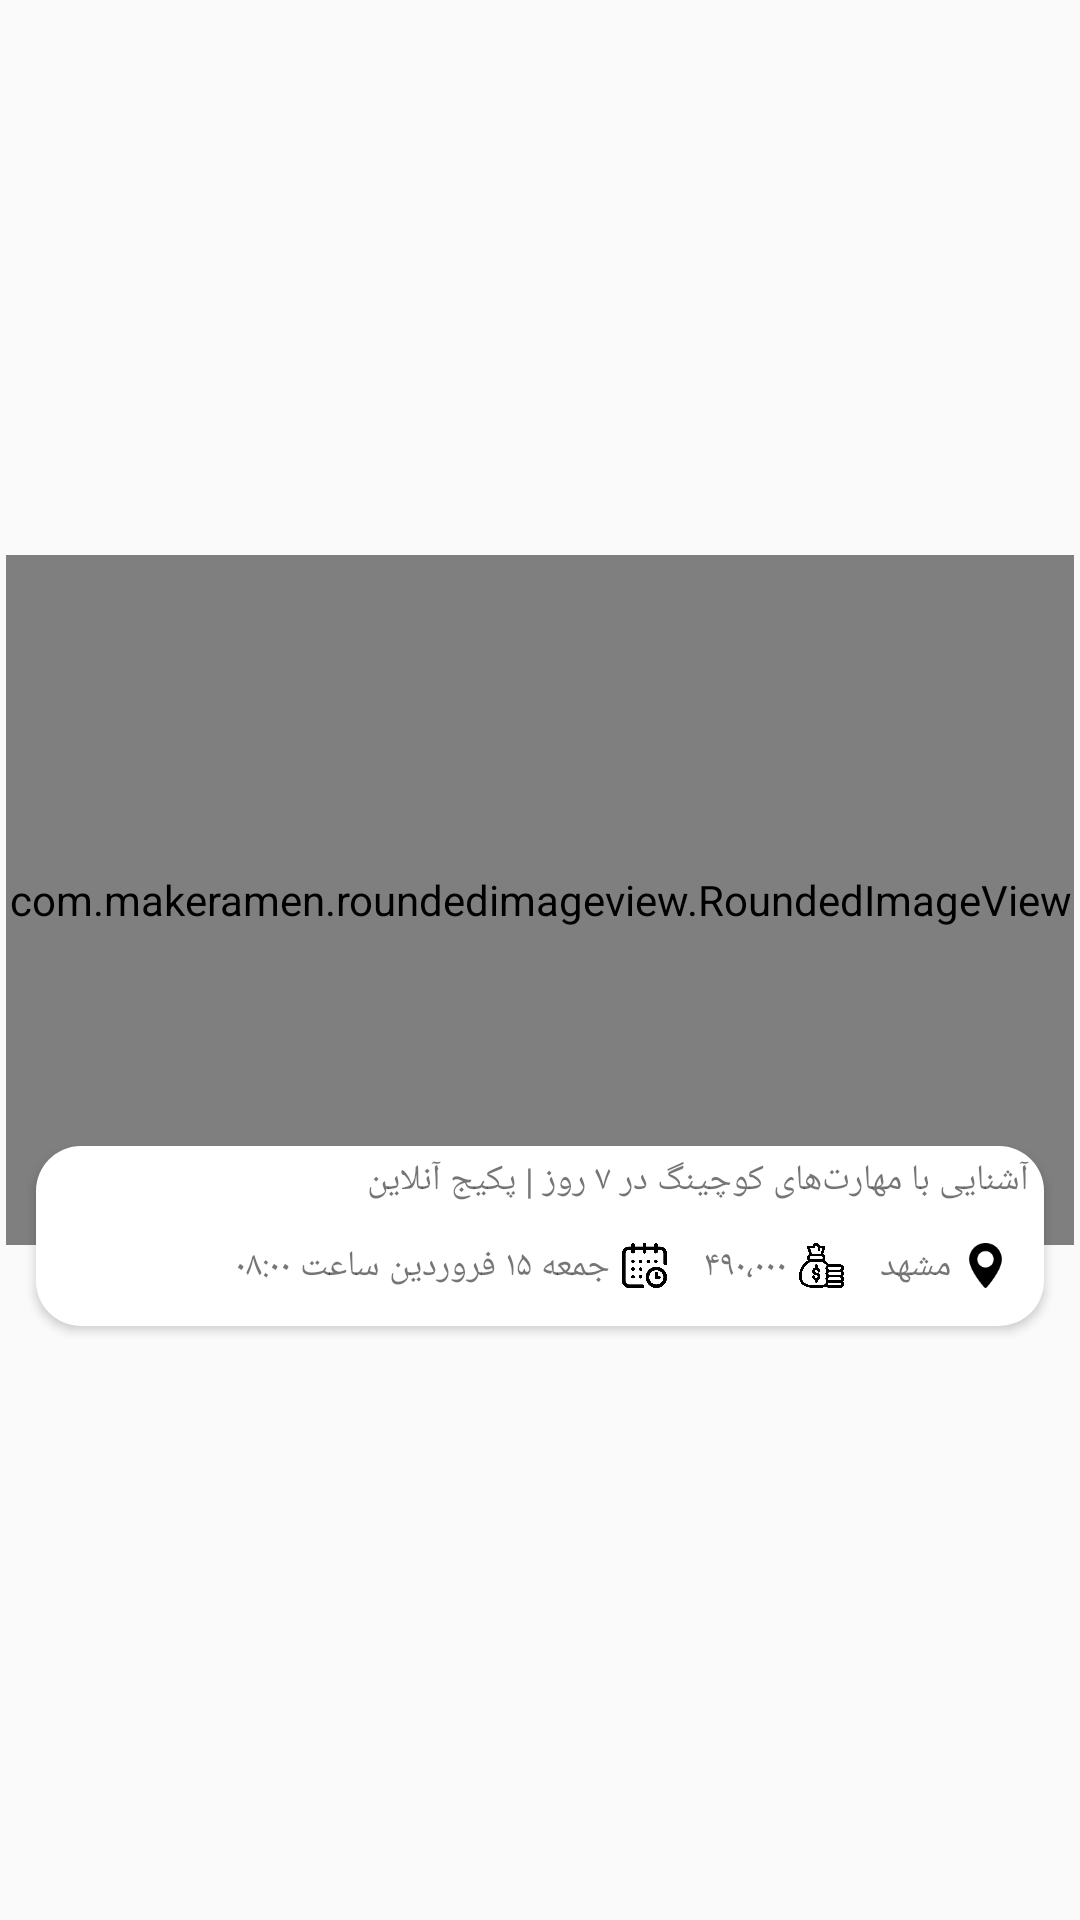

Icons on this 1080 × 1920 Android screen, each with its box as (left=x1, top=y1, right=x2, bottom=y2):
calendarcal: (left=622, top=1243, right=667, bottom=1288)
cost: (left=799, top=1243, right=844, bottom=1288)
location: (left=969, top=1243, right=1002, bottom=1288)
